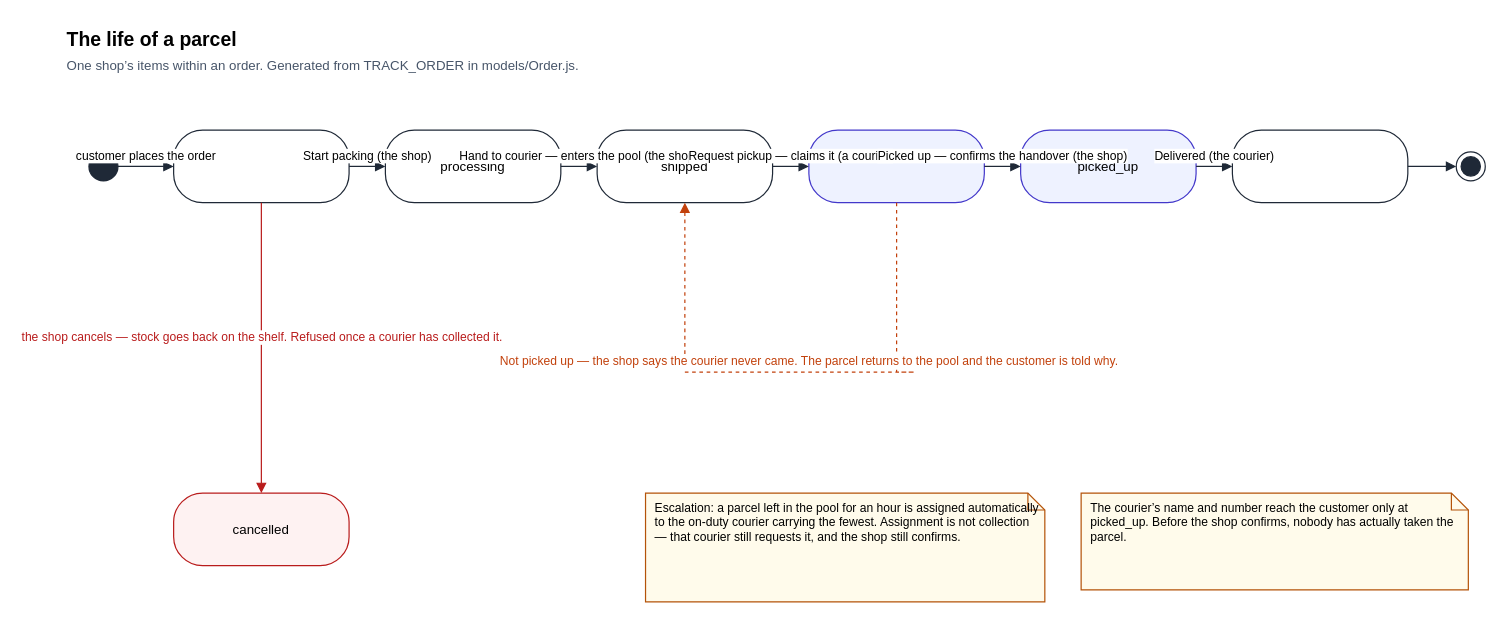
Image size: 1506x623. Some labels were removed from this diagram. The shapes that lost their labels are listed below. From the top down, each one's box as (x1, y1, x2, y2) in pixels, then its label:
(172, 129, 349, 203): placed
(808, 129, 984, 203): pickup_requested
(1231, 129, 1408, 203): delivered
